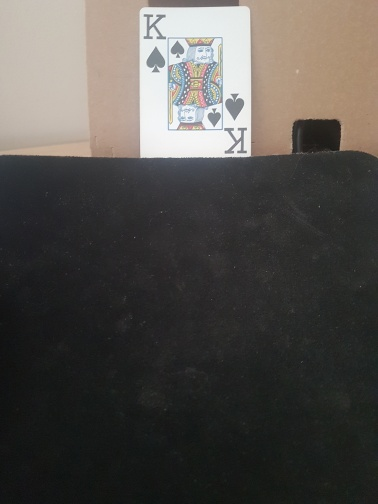king: (140, 6, 253, 157)
